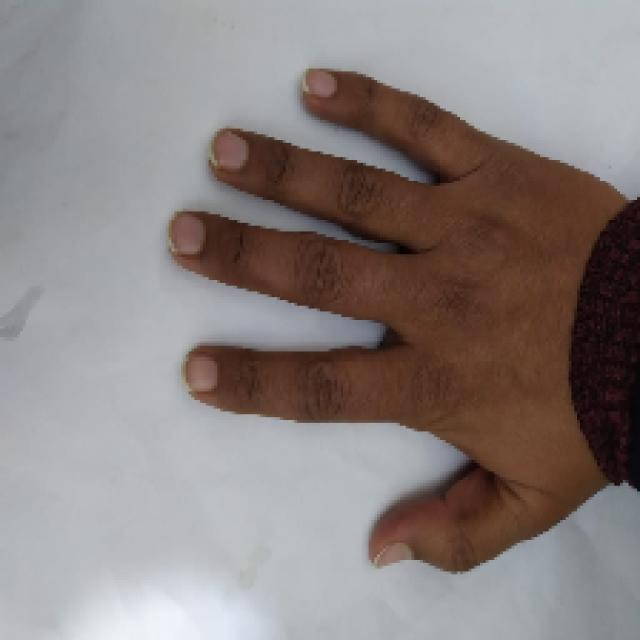Nail: (169, 212, 206, 256), (210, 130, 249, 171), (185, 354, 218, 392), (302, 70, 338, 98), (374, 542, 414, 566)
